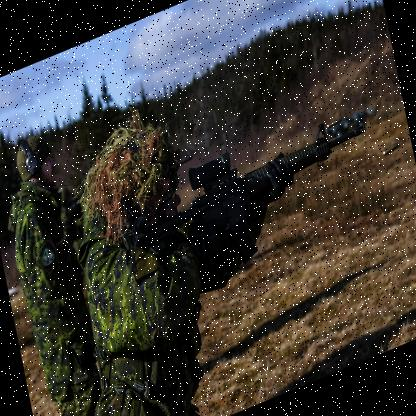rifle: (128, 98, 390, 292)
